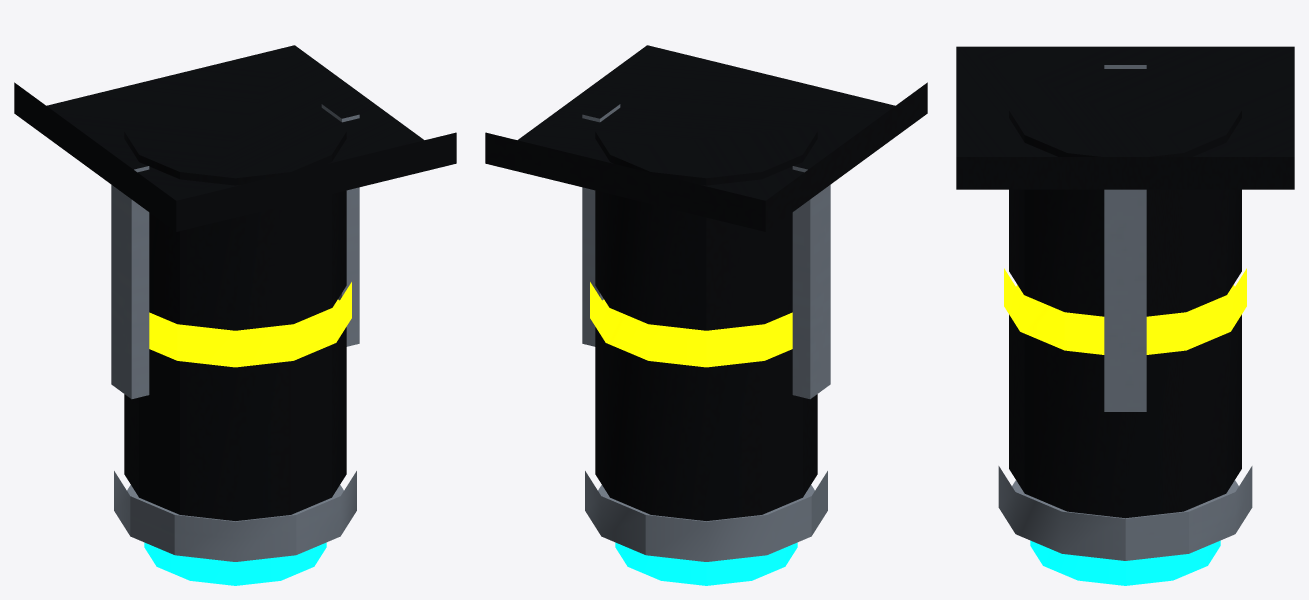
The model's file is v1_court_caustic.glb.
3 views of the same model, side by side, from view 1: azimuth 30°, elevation 25°; view 2: azimuth 150°, elevation 25°; view 3: azimuth 270°, elevation 25° (orthographic). The views are drawn at different scales.
Visible parts, largest first — view 1: Projector_Can, Mount_Plate, Lens_Ring, Yoke, Can_Band, Caustic_Lens; view 2: Projector_Can, Mount_Plate, Lens_Ring, Yoke, Can_Band, Caustic_Lens; view 3: Projector_Can, Mount_Plate, Lens_Ring, Yoke, Can_Band, Caustic_Lens.
Part boxes in pixels (x1,y1,x2,y2): Projector_Can: (124, 132, 346, 520); Mount_Plate: (14, 45, 456, 231); Lens_Ring: (114, 471, 356, 561); Yoke: (111, 104, 359, 399); Can_Band: (149, 282, 351, 367); Caustic_Lens: (144, 542, 326, 585); Projector_Can: (595, 132, 817, 520); Mount_Plate: (485, 45, 927, 231); Lens_Ring: (585, 471, 827, 561); Yoke: (582, 104, 830, 399); Can_Band: (590, 282, 792, 367); Caustic_Lens: (615, 542, 797, 585); Projector_Can: (1009, 111, 1241, 518); Mount_Plate: (956, 46, 1294, 189); Lens_Ring: (998, 466, 1252, 560); Yoke: (1104, 65, 1146, 411); Can_Band: (1004, 268, 1246, 354); Caustic_Lens: (1030, 540, 1220, 585).
Size of what is drawn, in the model's own units: 0.32 by 0.48 by 0.32.
4 materials, 2 textured.
